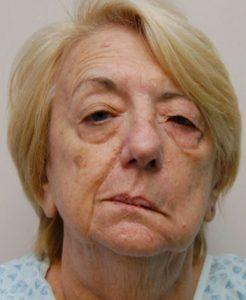strokeEyeSevere: (66, 77, 205, 147)
strokeMouthMid: (86, 184, 175, 224)
